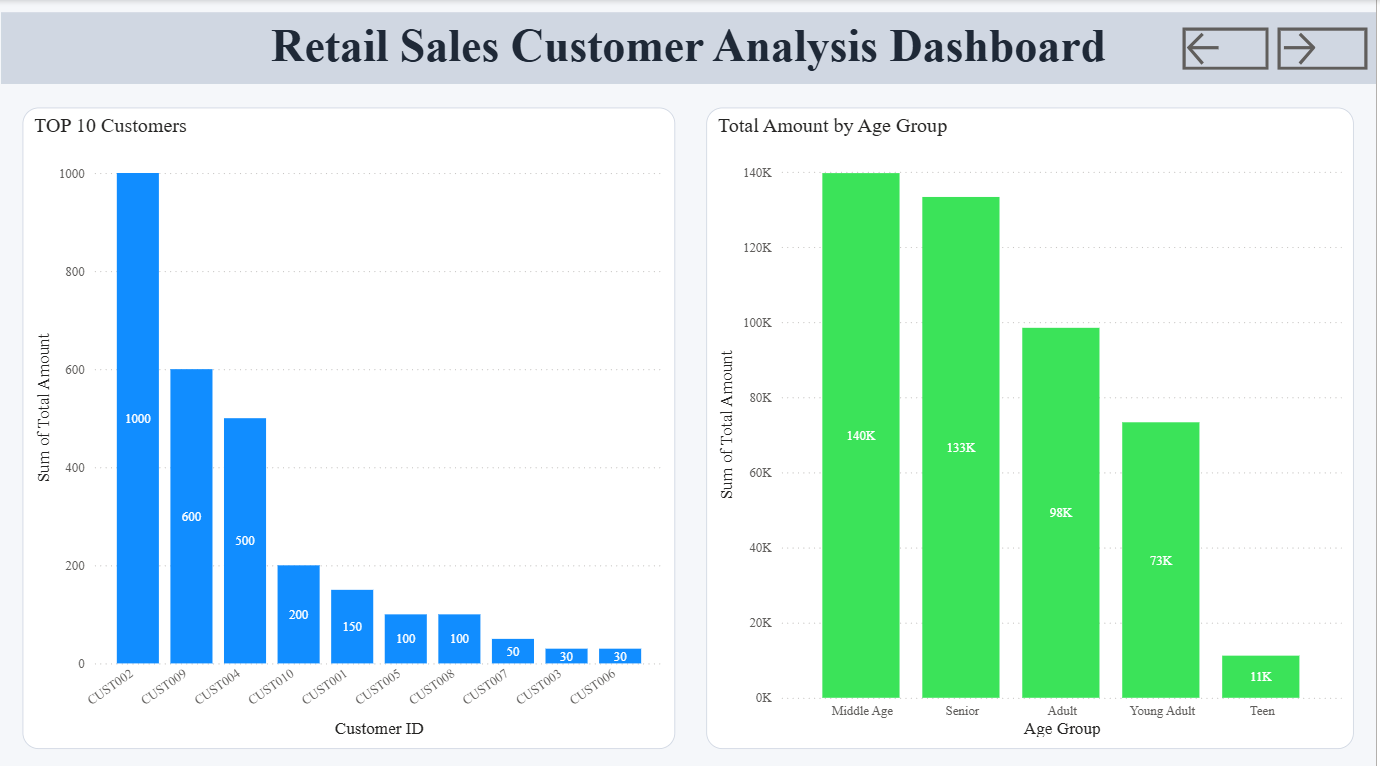

This screenshot's page, from the dashboard's own definition file:
{"tool":"powerbi","page":{"name":"Customer Analysis","canvas":[1280,720],"ordinal":1},"visuals":[{"type":"columnChart","title":"TOP 10 Customers","fields":{"Category":["cleaned_retail_data.Customer ID"],"Y":["Sum(cleaned_retail_data.Total Amount)"]},"box":[20.9,100,607,596.5],"z":0},{"type":"columnChart","title":"Total Amount by Age Group","fields":{"Category":["cleaned_retail_data.Age Group"],"Y":["Sum(cleaned_retail_data.Total Amount)"]},"box":[657,100,602.3,596.5],"z":1000},{"type":"textbox","box":[0.9,11.6,1279.1,66.3],"z":2000},{"type":"actionButton","box":[1100,25.6,80.2,39.5],"z":3000},{"type":"actionButton","box":[1188.4,25.6,83.7,39.5],"z":4000}]}

Visuals, with their boxes in screenshot pixels (x1, y1, x2, y2), scaled from the page's 1280x720 canvas onto the 1380x766 screenshot:
"TOP 10 Customers" columnChart: (23, 106, 677, 741)
"Total Amount by Age Group" columnChart: (708, 106, 1358, 741)
textbox: (1, 12, 1379, 83)
actionButton: (1186, 27, 1272, 69)
actionButton: (1281, 27, 1371, 69)
